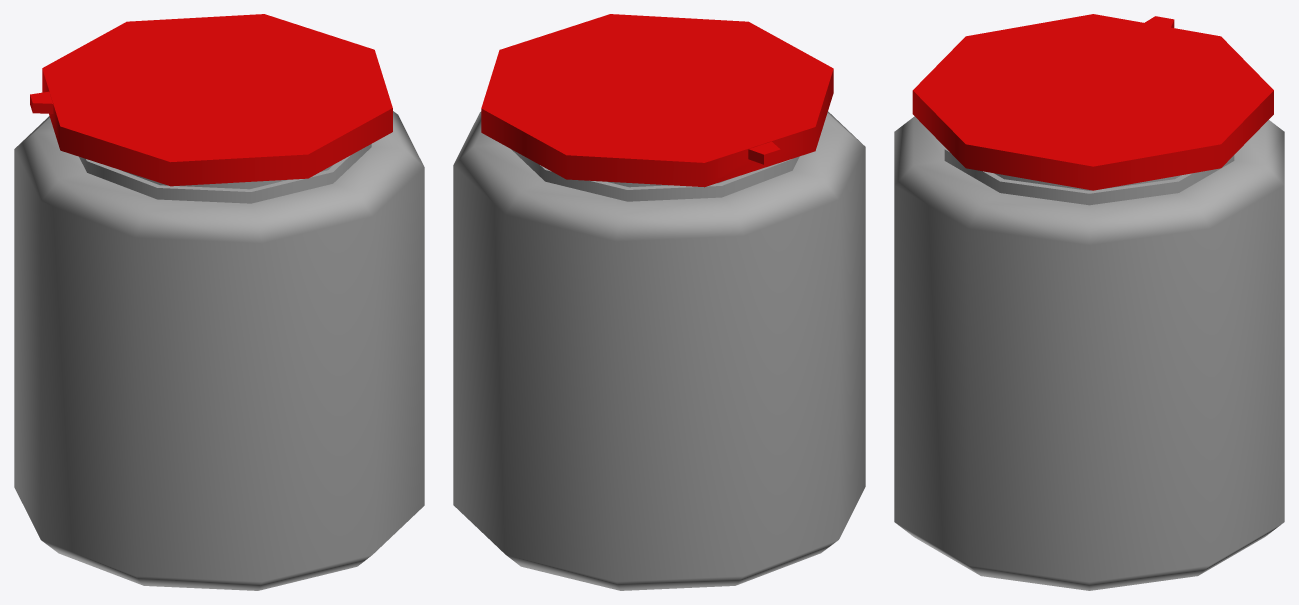
Rendered from poudre_ID.fbx.
The picture shows the model from 3 angles, left to right: view 1: azimuth 30°, elevation 25°; view 2: azimuth 150°, elevation 25°; view 3: azimuth 270°, elevation 25°; orthographic projection.
Visible parts, largest first — view 1: pCylinder1, pCylinder2; view 2: pCylinder1, pCylinder2; view 3: pCylinder1, pCylinder2.
Boxes of the visible parts, <box> form: pCylinder1: <box>14,111,424,590</box>; pCylinder2: <box>30,14,392,186</box>; pCylinder1: <box>453,111,865,590</box>; pCylinder2: <box>481,14,833,187</box>; pCylinder1: <box>894,116,1284,590</box>; pCylinder2: <box>912,14,1273,190</box>.
Size of the model in its own units: 5.32 by 6.04 by 5.06.
